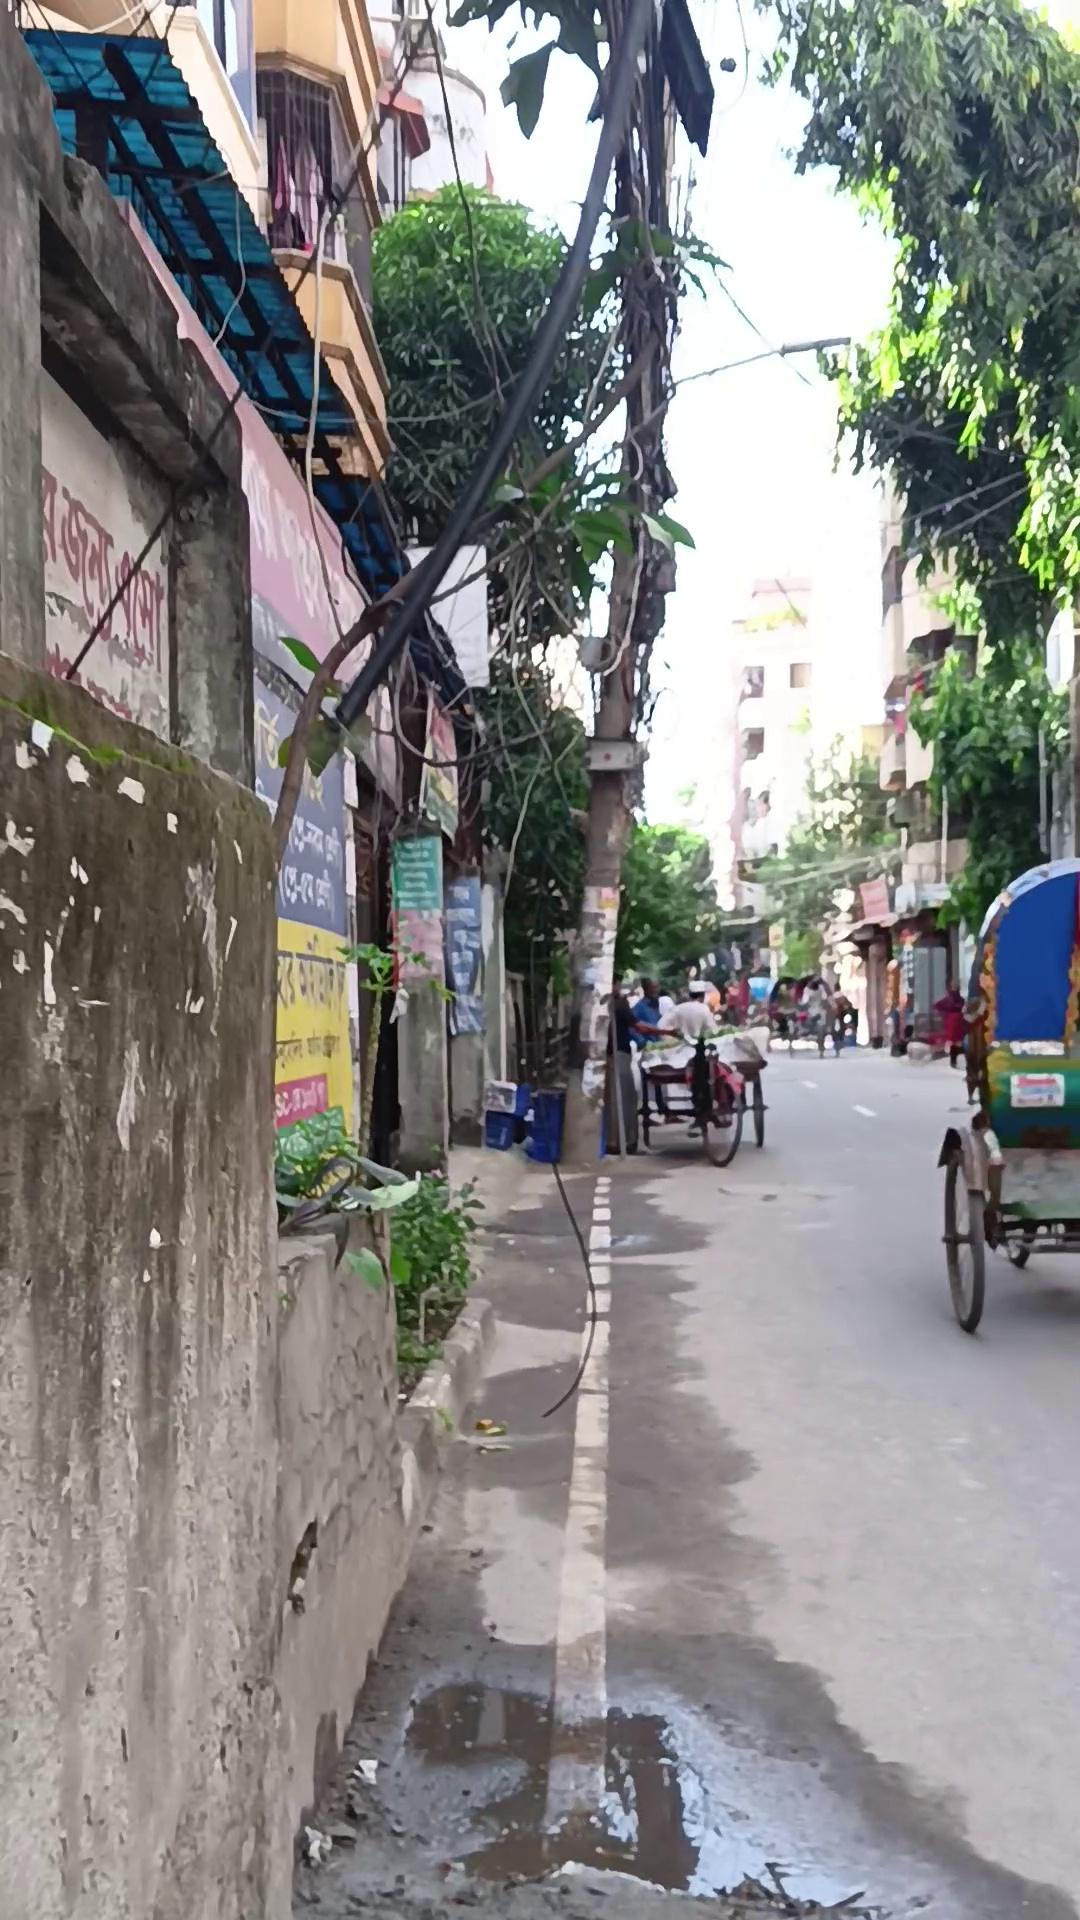Broken-road: (394, 1294, 493, 1538)
Cat: (525, 1082, 567, 1162), (480, 1078, 521, 1149)
Fence: (936, 850, 1078, 1334), (632, 1027, 768, 1167)
Garbage: (341, 1060, 663, 1920)
Obstacle: (1, 5, 455, 1918)
